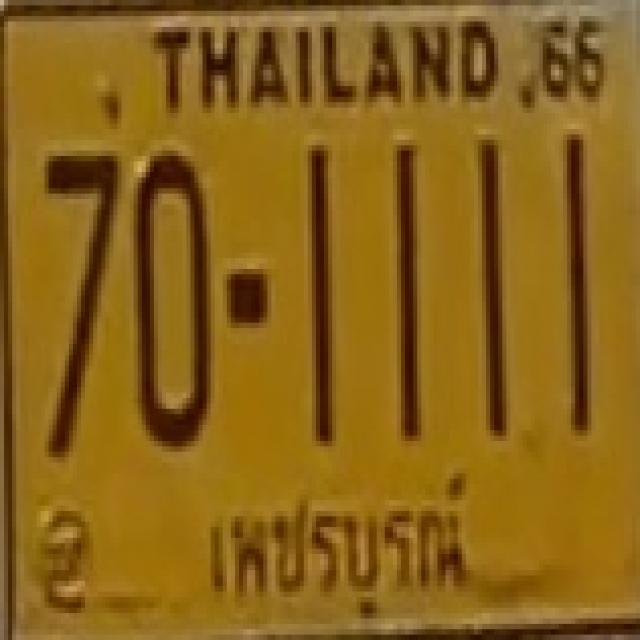0: (132, 148, 212, 444)
1: (480, 137, 508, 437), (310, 140, 336, 457), (567, 132, 594, 434), (397, 142, 423, 444)
7: (39, 152, 120, 464)
PNB: (187, 475, 488, 619)
